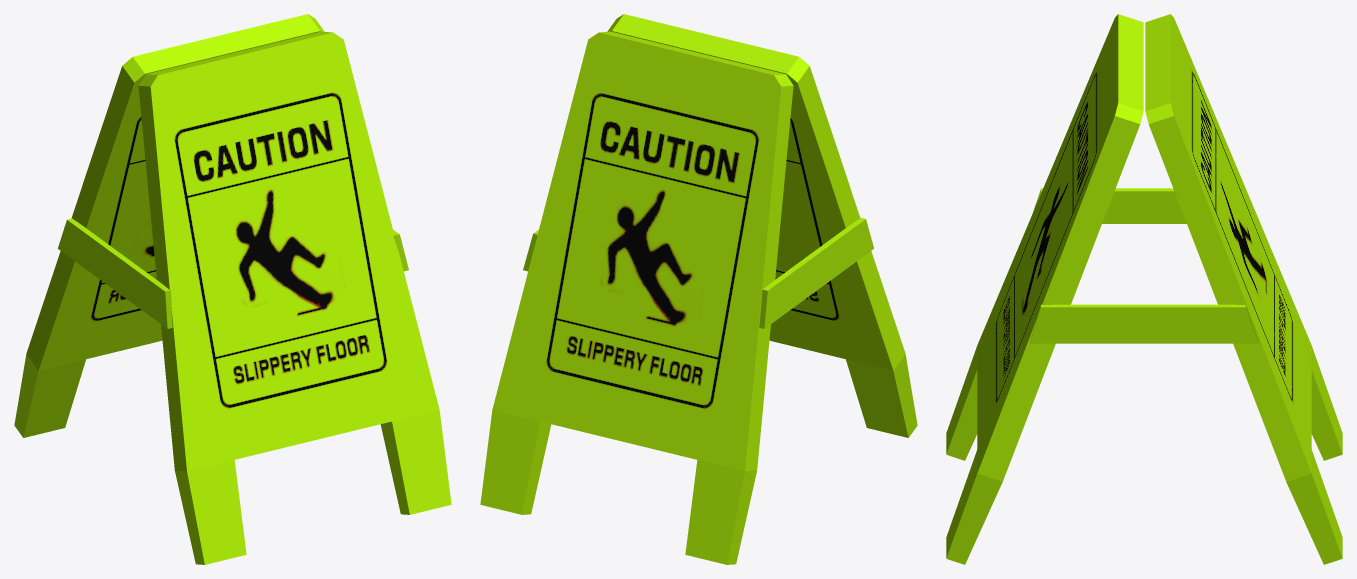
Rendered from SlipperyFloorSign_01.fbx.
3 views of the same model, side by side, from view 1: azimuth 30°, elevation 25°; view 2: azimuth 150°, elevation 25°; view 3: azimuth 270°, elevation 25° (orthographic). The views are drawn at different scales.
Visible parts, largest first — view 1: SlipperyFloorSign; view 2: SlipperyFloorSign; view 3: SlipperyFloorSign.
Boxes of the visible parts, <box> form: SlipperyFloorSign: <box>14,14,451,564</box>; SlipperyFloorSign: <box>480,14,917,564</box>; SlipperyFloorSign: <box>946,14,1342,564</box>.
Bounding box in the file's own units: 0.2654 × 0.4282 × 0.3467.
